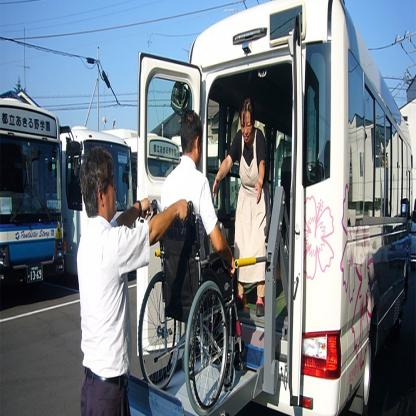wheelchair: (141, 111, 246, 409)
